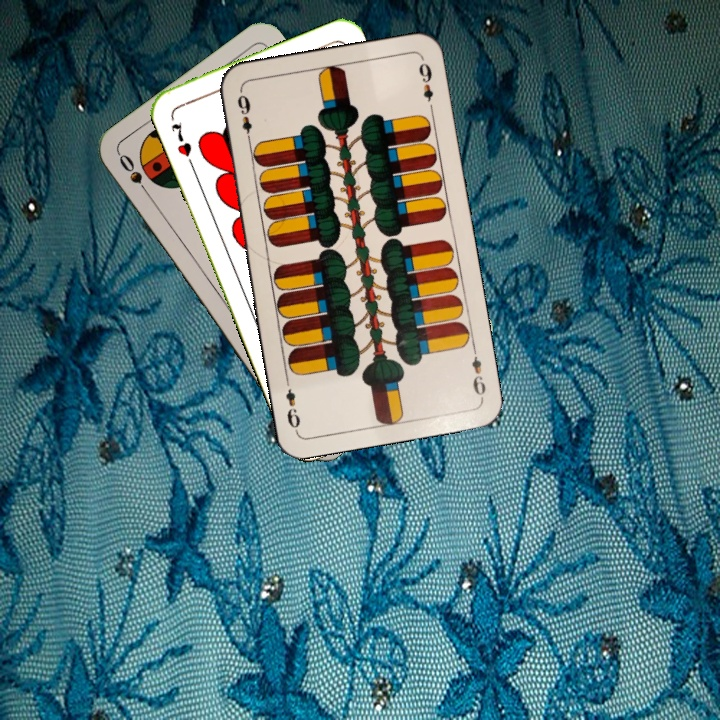E9: (233, 88, 255, 147), (467, 342, 489, 401)
H7: (167, 117, 196, 169)
SO: (114, 150, 155, 202)
